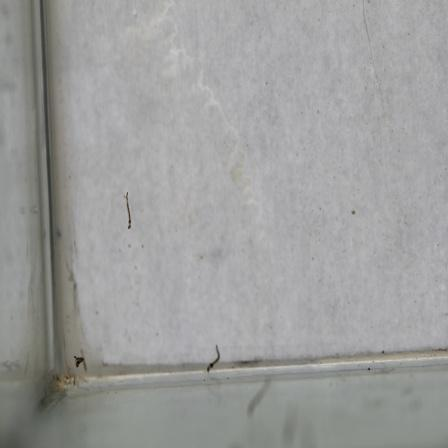Jentik-Nyamuk: (119, 187, 137, 235), (203, 339, 223, 377), (70, 352, 90, 375)
